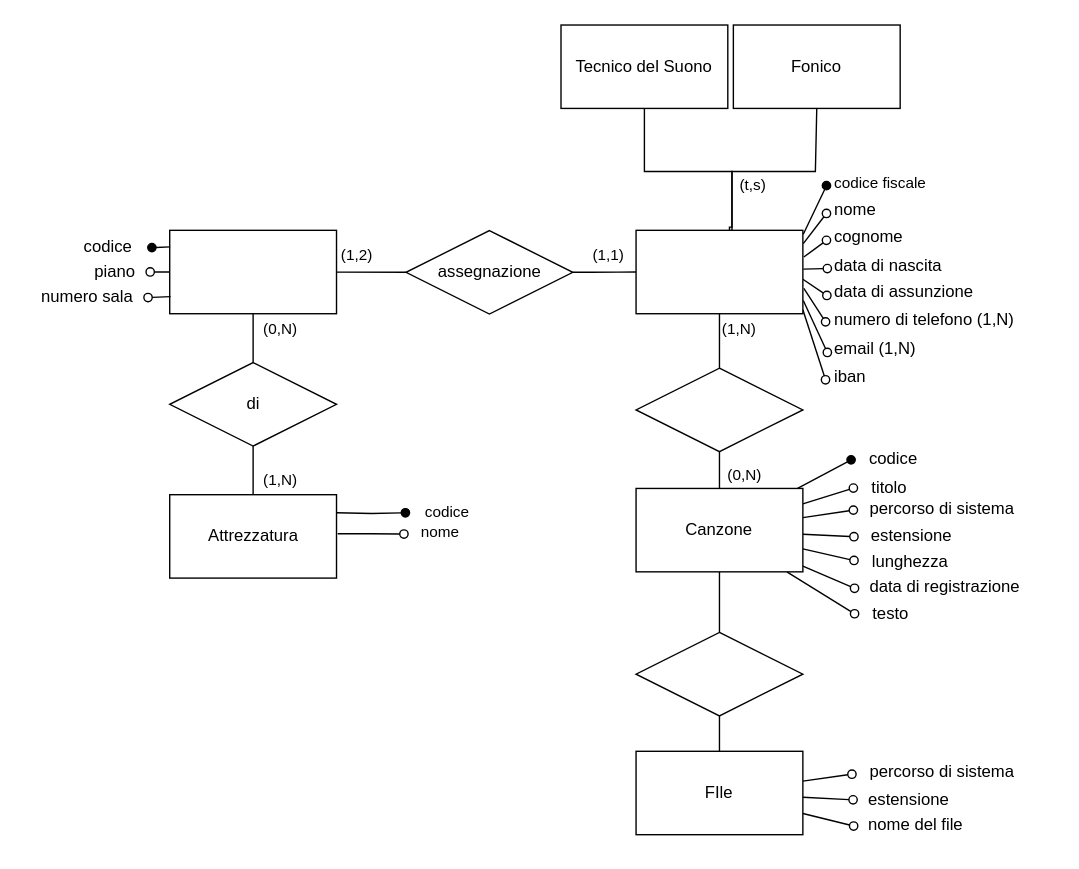
Some shapes in this 1079 by 869 pixel diagram are drawn without their labels. The shapes that lost their labels are listed below. From the top down, each one's centre as x and y in pixels, then its label:
point (252, 271): Sala
point (719, 271): Tecnico
point (719, 409): lavora a
point (719, 673): in
